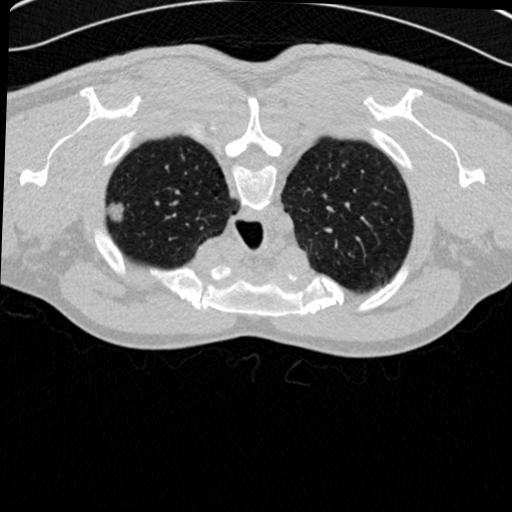nodule: (103, 201, 126, 224)
